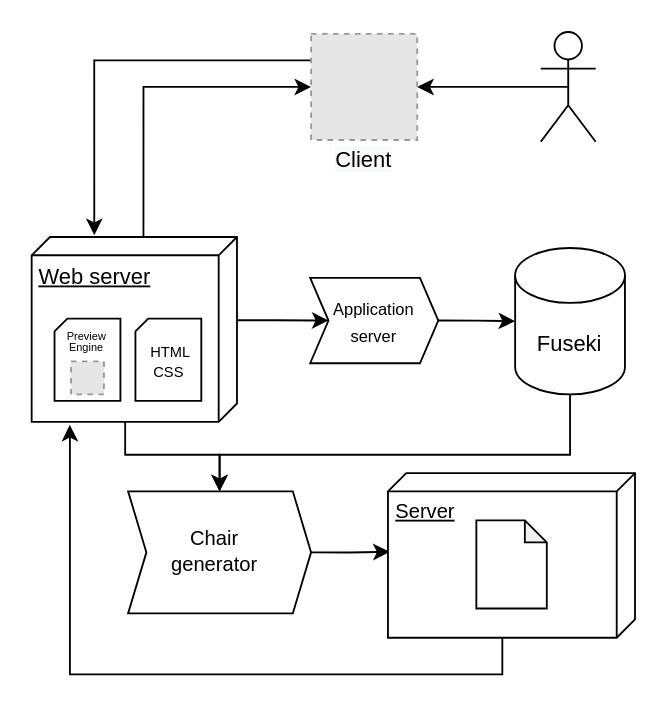
Some shapes in this 668 by 721 pixel diagram are drawn without their labels. Grey dashed boxes stand in for pictures. Here are the shapes that lost their labels. From the top down, the centre of each, then its label:
the point at 567,86: Customer
the point at 511,563: DFA products
